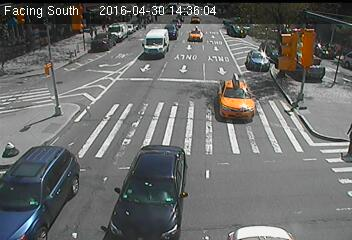neg: (30, 71, 49, 96), (304, 82, 321, 105), (256, 38, 272, 59), (71, 40, 82, 55), (94, 24, 103, 36), (190, 29, 199, 41)
